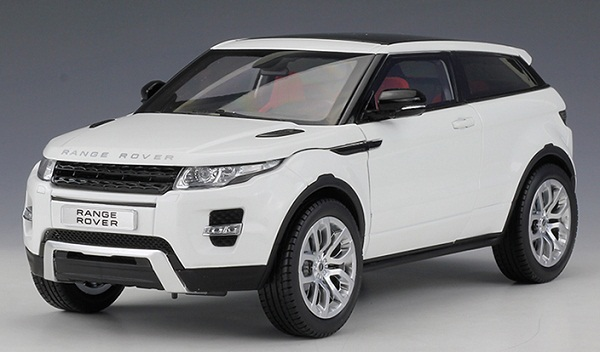pickup: (21, 33, 579, 339)
